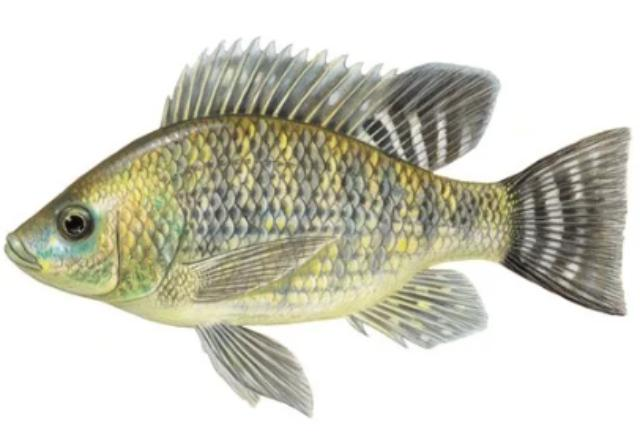Mulut: (0, 206, 52, 292)
Sirip Anal: (343, 260, 502, 360)
Sirip Dada: (156, 223, 350, 307)
Sirip Ekor: (503, 118, 635, 326)
Sirip Perut: (185, 314, 327, 420)
Sirip Punggung: (155, 27, 510, 179)
